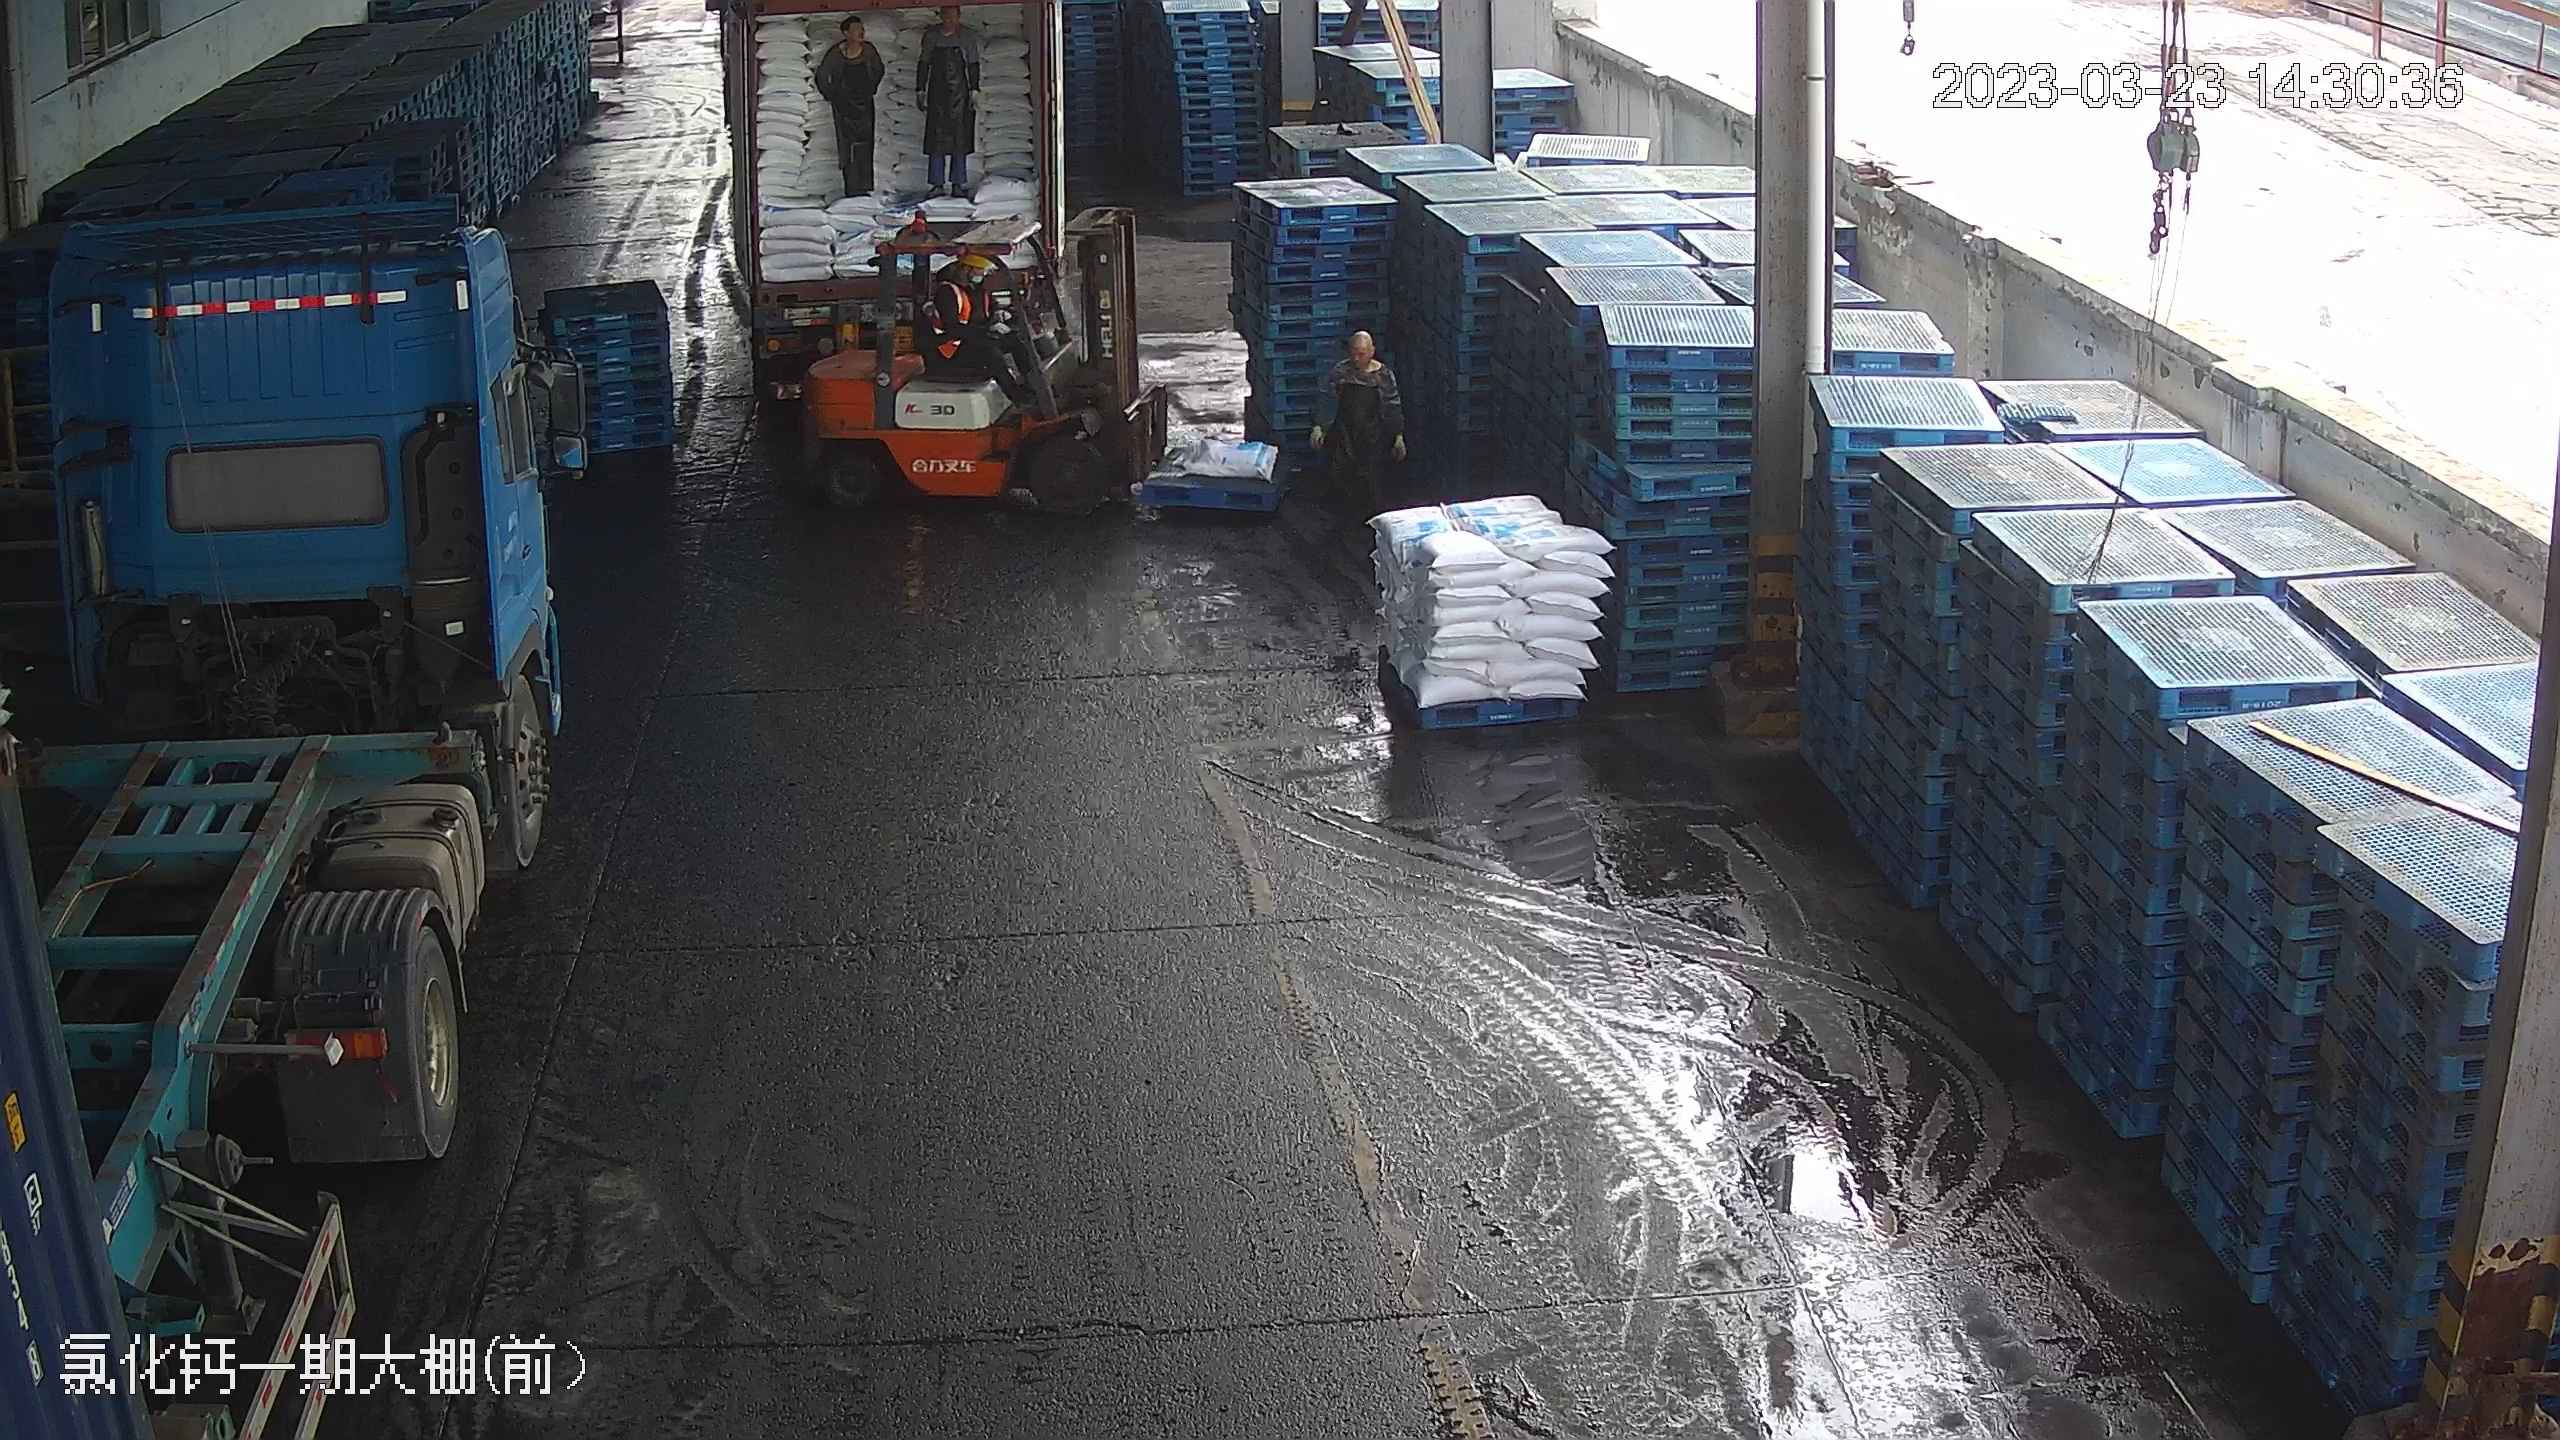head: (1326, 329, 1400, 408), (939, 252, 1001, 311), (827, 20, 882, 81), (918, 4, 972, 63)
helmet: (952, 251, 988, 276)
people: (1306, 317, 1408, 532), (926, 247, 1035, 402), (912, 3, 985, 201), (817, 11, 886, 201)
truck: (5, 208, 581, 1440)
